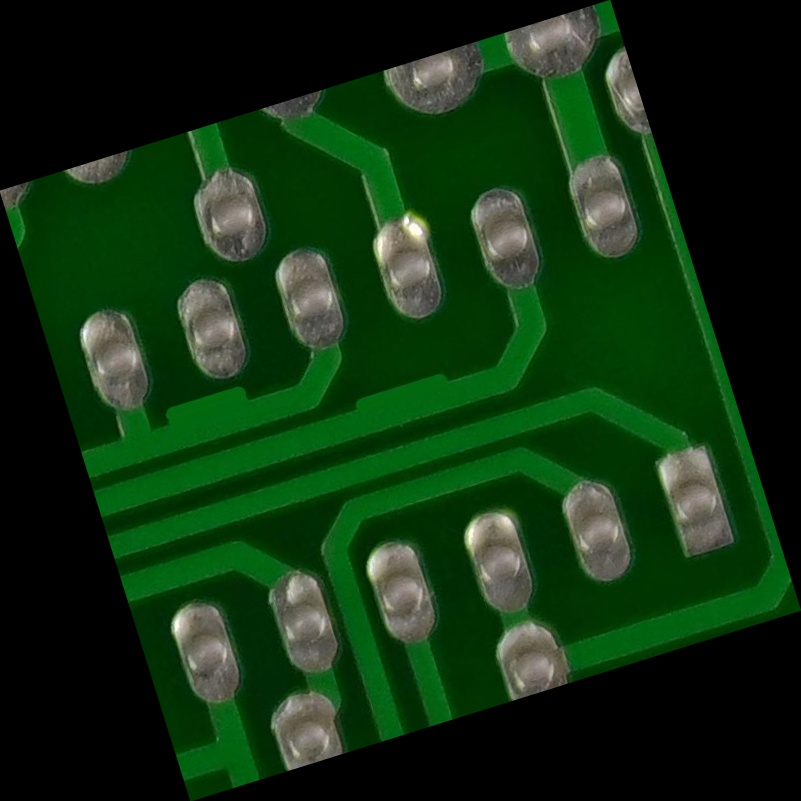spur: (337, 354, 464, 447)
